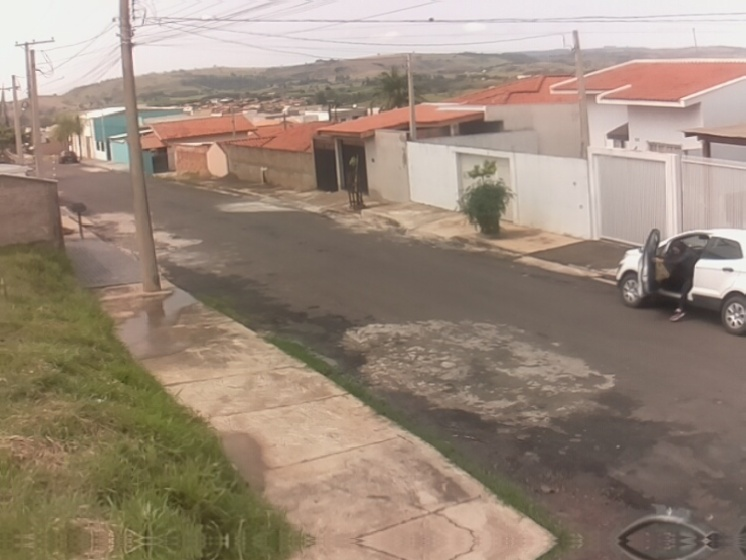person: (651, 240, 697, 323)
